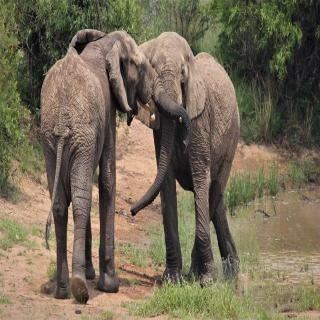Elephant: (33, 25, 193, 305), (129, 28, 245, 288)
